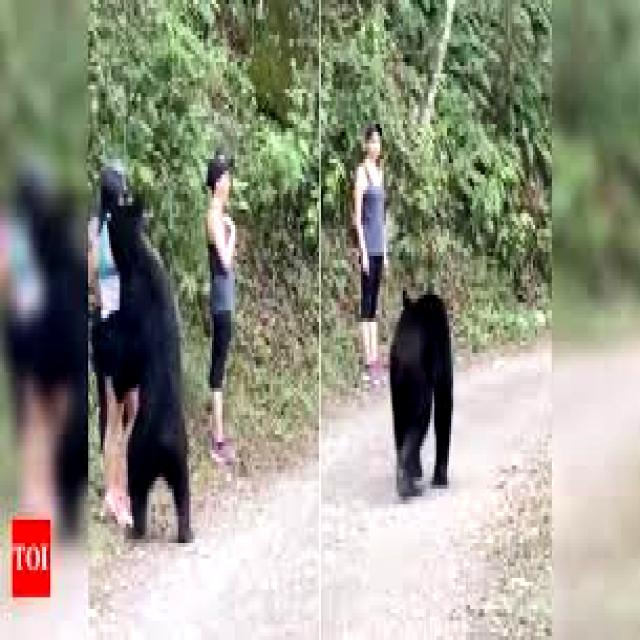bear: (100, 164, 200, 530), (391, 288, 465, 505)
